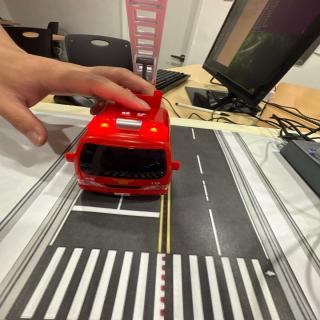Fire_truck: (65, 90, 180, 196)
